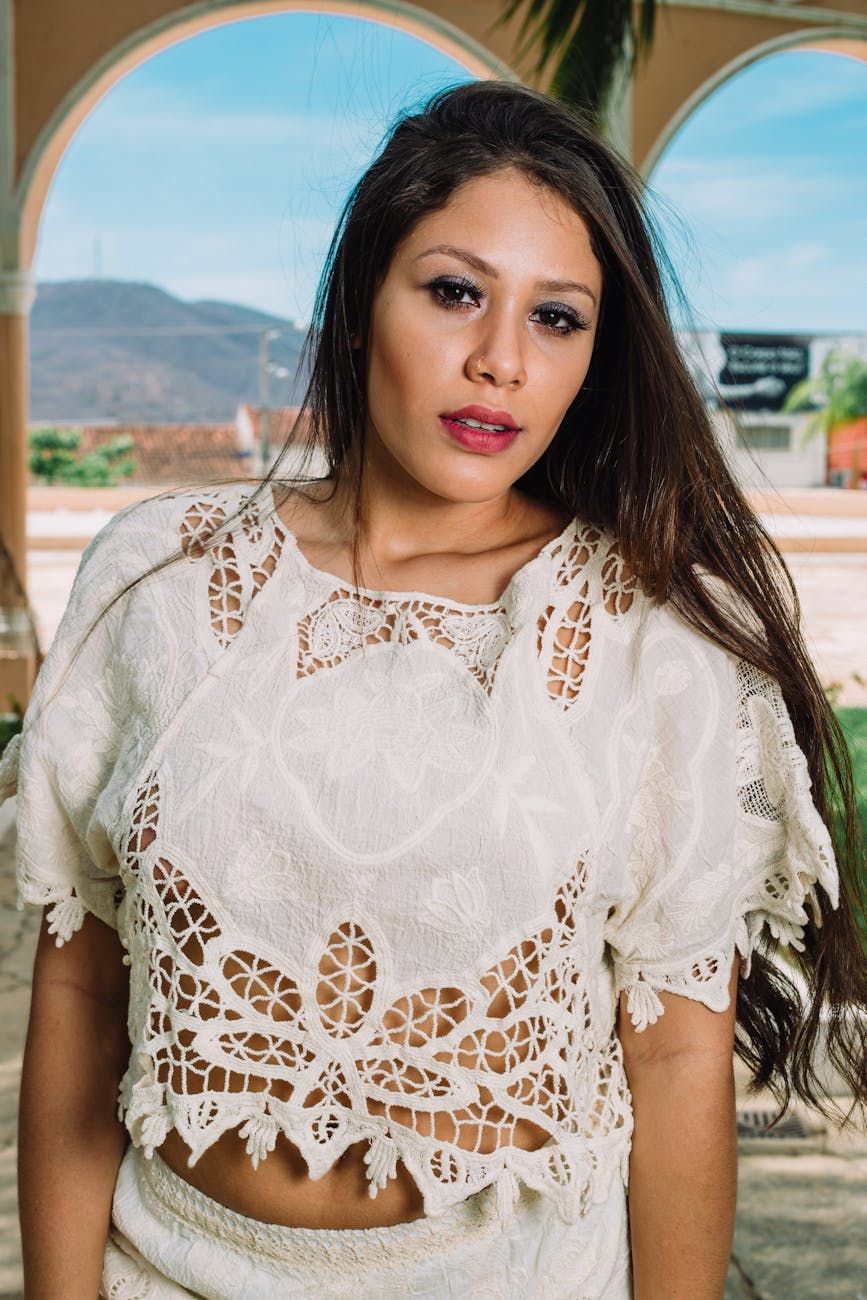crop_top: (49, 474, 827, 1205)
transparent_top: (71, 491, 674, 1168)
